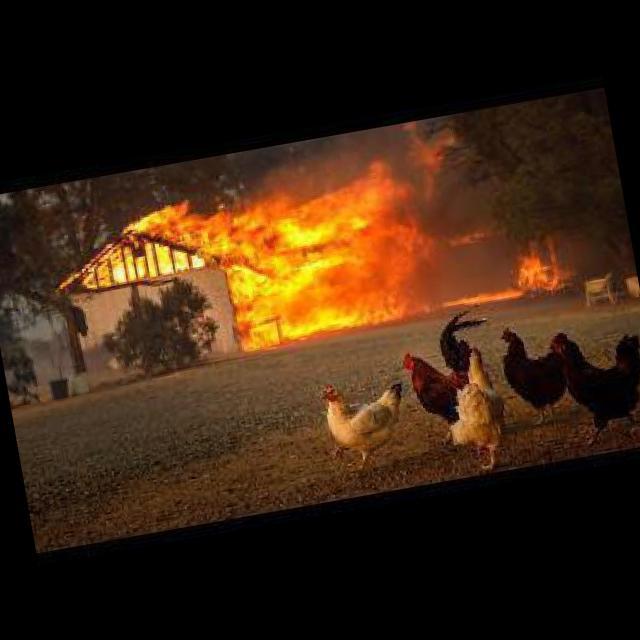Fire: (29, 132, 438, 384), (428, 232, 574, 314)
Smoke: (142, 156, 478, 365)
